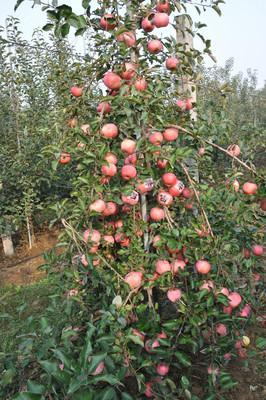apple: (103, 61, 145, 92), (143, 11, 169, 30), (103, 71, 121, 89), (99, 13, 118, 30), (123, 271, 142, 288), (102, 201, 118, 216), (120, 31, 135, 46), (147, 39, 162, 53), (149, 206, 164, 220), (148, 131, 163, 145), (163, 128, 178, 141), (165, 56, 178, 70), (242, 182, 257, 194), (156, 364, 168, 375)
